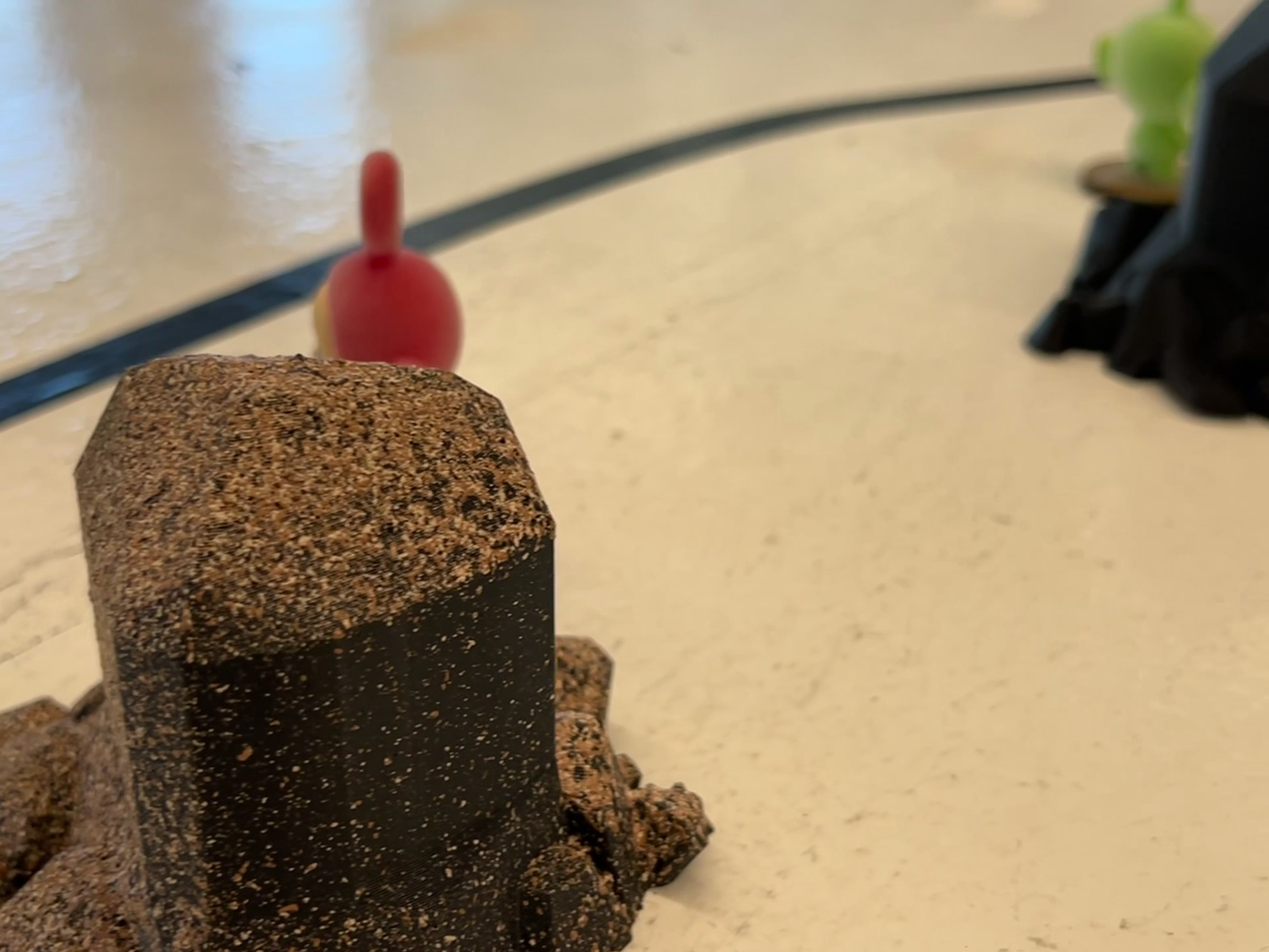teletubby: (315, 151, 462, 371), (1094, 0, 1216, 188)
